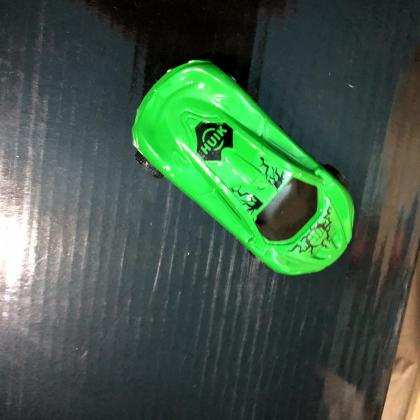Car: (131, 61, 356, 277)
